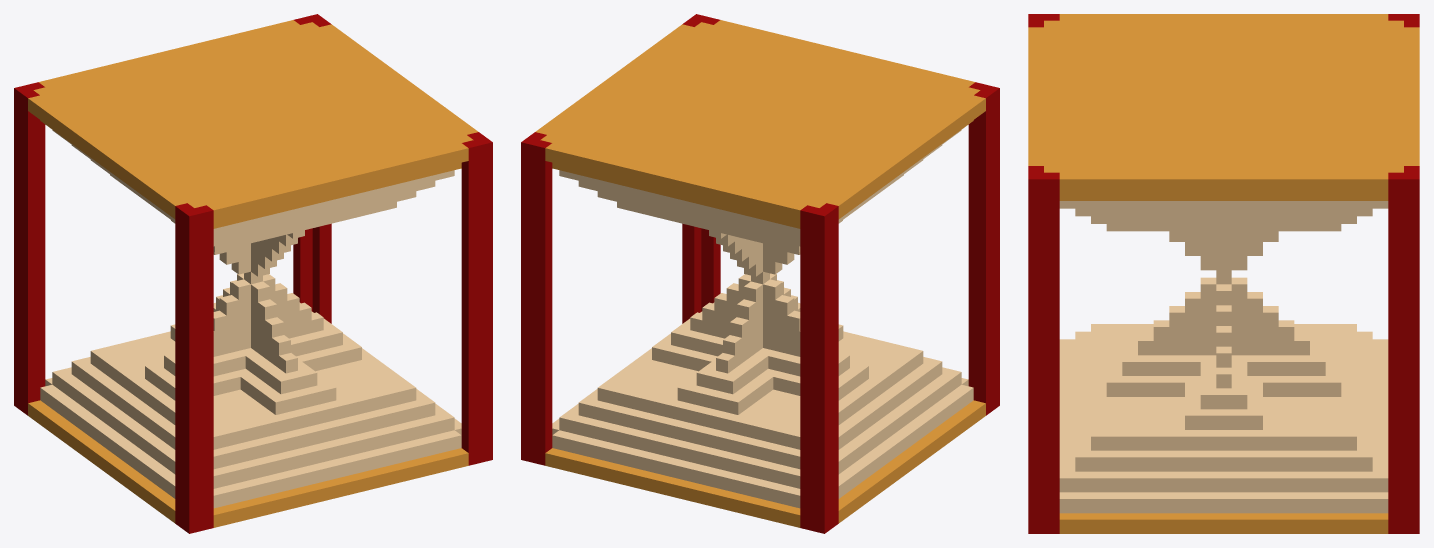
Rendered from nineteenthModel.fbx.
3 views of the same model, side by side, from view 1: azimuth 30°, elevation 25°; view 2: azimuth 150°, elevation 25°; view 3: azimuth 270°, elevation 25° (orthographic). The views are drawn at different scales.
Visible parts, largest first — view 1: Pyramid; view 2: Pyramid; view 3: Pyramid.
Boxes of the visible parts, <box> form: Pyramid: <box>14,14,492,533</box>; Pyramid: <box>521,14,999,533</box>; Pyramid: <box>1028,14,1419,533</box>.
Bounding box in the file's own units: 25 × 25 × 25.
Materials: 1 (1 with a texture image).
